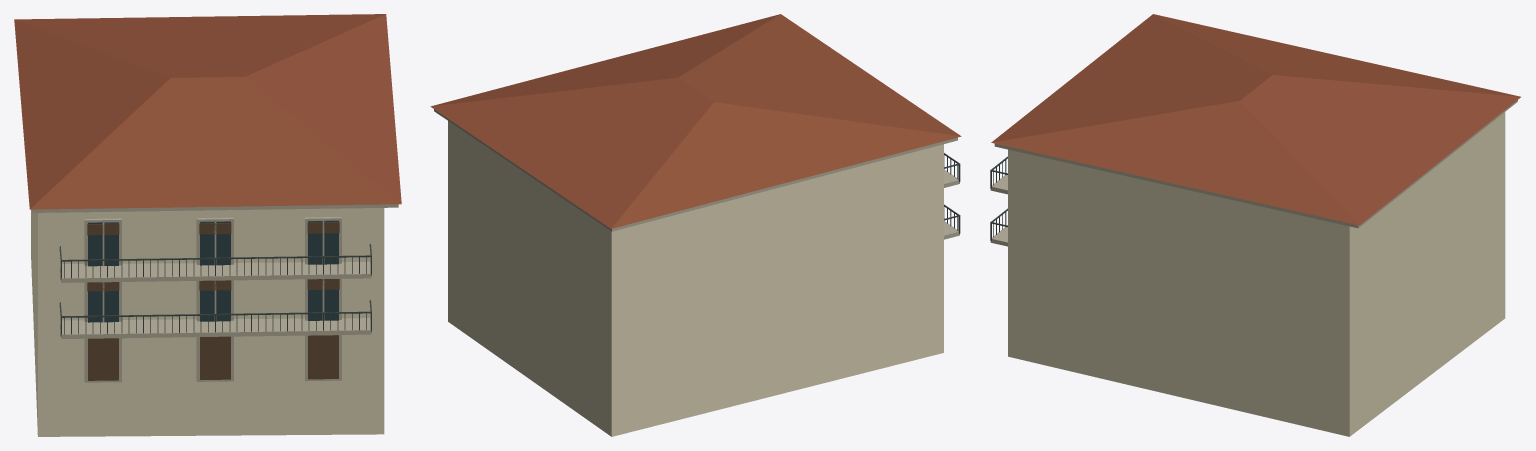
The model's file is casa-piazza.glb.
The picture shows the model from 3 angles, left to right: view 1: azimuth 30°, elevation 25°; view 2: azimuth 150°, elevation 25°; view 3: azimuth 270°, elevation 25°; orthographic projection. The views are drawn at different scales.
Size of the model in its own units: 26.99 by 14.85 by 28.64.
